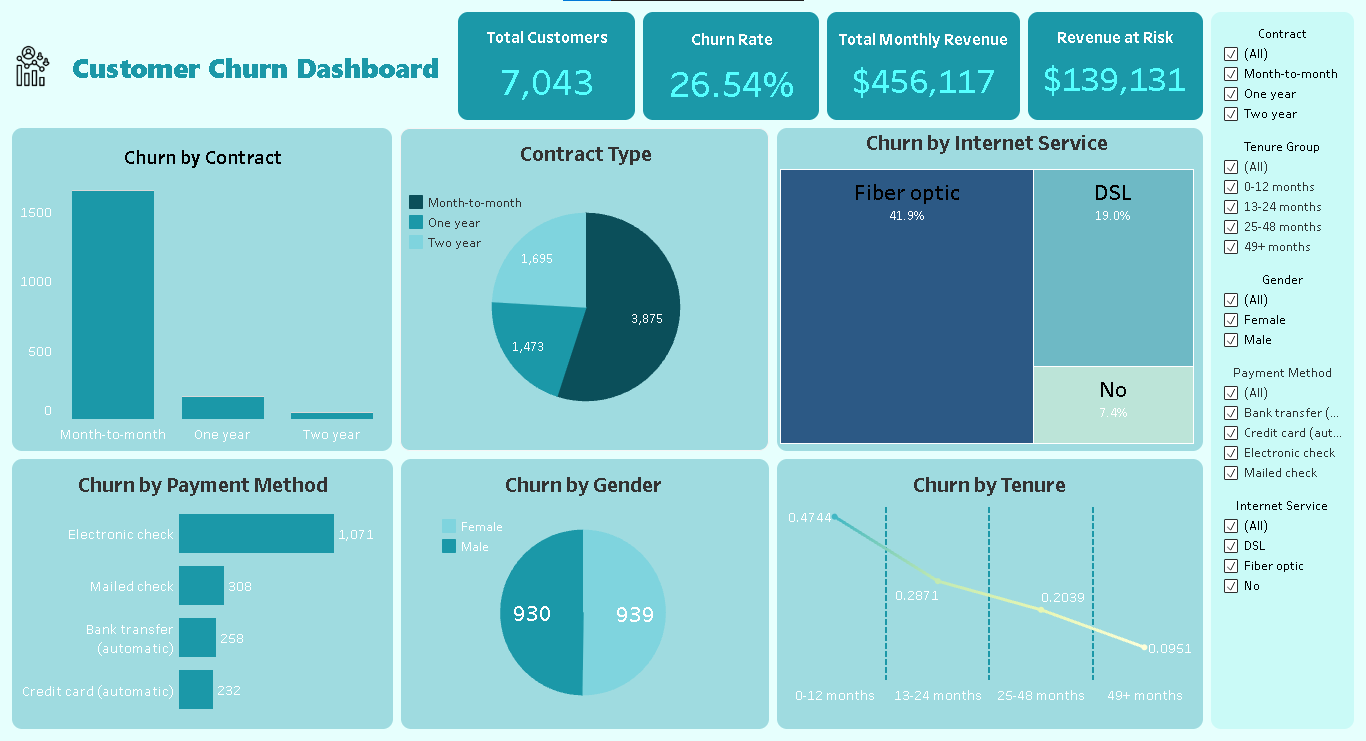

What the dashboard file says about the page in this screenshot:
{"tool":"tableau","page":{"name":"Customer Churn Dashboard","canvas":[1000,1000],"units":"permille","ordinal":0},"visuals":[{"type":"image","param":"C:/Users/Hammad/Downloads/churn-rate.png","box":[6,13.3,35.8,156.2]},{"type":"title","box":[41.7,13.3,290.9,156.2]},{"type":"blank","box":[332.6,13.3,135,156.2]},{"type":"blank","box":[467.6,13.3,135,156.2]},{"type":"blank","box":[602.6,13.3,147.1,156.2]},{"type":"blank","box":[749.6,13.3,133.6,156.2]},{"type":"blank","box":[883.3,13.3,110.7,973.4]},{"type":"worksheet","title":"Total Customers","mark":"Automatic","box":[338.8,24.9,123.1,149.5]},{"type":"worksheet","title":"Revenue at Risk","mark":"Automatic","box":[756,24.9,120.2,154.5]},{"type":"worksheet","title":"Churn Rate","mark":"Automatic","box":[473.9,26.6,123.1,151.2]},{"type":"worksheet","title":"Total Monthly Revenue","mark":"Automatic","box":[608.2,26.6,135.8,152.8]},{"type":"filter","title":"Churn by Contract","param":"[federated.0oh9uhy1ftk5yl16cav5q0f5s9dx].[none:Contract:nk]","box":[890.3,26.6,96.3,179.4]},{"type":"worksheet","title":"Churn by Internet Service","mark":"Automatic","box":[568,164.5,308.2,438.5]},{"type":"blank","box":[6,169.4,284.4,443.5]},{"type":"blank","box":[290.3,169.4,275.9,443.5]},{"type":"blank","box":[566.2,169.4,317.1,443.5]},{"type":"worksheet","title":"Contract Type","mark":"Pie","box":[300.4,179.4,257.1,412]},{"type":"worksheet","title":"Churn by Contract","mark":"Bar","rows":["Calculation_0577559022379009"],"cols":["Contract"],"box":[13.8,184.4,269.3,412]},{"type":"filter","title":"Churn by Tenure","param":"[federated.0oh9uhy1ftk5yl16cav5q0f5s9dx].[none:Calculation_0577559022198784:nk]","box":[890.3,206,96.3,211]},{"type":"legend","title":"Contract Type","param":"[federated.0oh9uhy1ftk5yl16cav5q0f5s9dx].[none:Contract:nk]","box":[297,259.1,94.4,99.7]},{"type":"filter","title":"Churn by Gender","param":"[federated.0oh9uhy1ftk5yl16cav5q0f5s9dx].[none:gender:nk]","box":[890.3,416.9,96.3,147.8]},{"type":"filter","title":"Churn by Payment Method","param":"[federated.0oh9uhy1ftk5yl16cav5q0f5s9dx].[none:PaymentMethod:nk]","box":[890.3,564.8,96.3,211]},{"type":"blank","box":[6,613,284.5,373.8]},{"type":"blank","box":[290.4,613,275.8,373.8]},{"type":"blank","box":[566.2,613,317.1,373.8]},{"type":"worksheet","title":"Churn by Payment Method","mark":"Automatic","rows":["PaymentMethod"],"cols":["Calculation_0577559022379009"],"box":[13.8,626.2,268.4,340.5]},{"type":"worksheet","title":"Churn by Gender","mark":"Pie","box":[297,626.2,259.7,342.2]},{"type":"worksheet","title":"Churn by Tenure","mark":"Line","rows":["Calculation_0577559022551042"],"cols":["Calculation_0577559022198784"],"box":[573.2,626.2,302.2,345.5]},{"type":"legend","title":"Churn by Gender","param":"[federated.0oh9uhy1ftk5yl16cav5q0f5s9dx].[none:gender:nk]","box":[321.2,696,62.3,76.4]},{"type":"filter","title":"Churn by Internet Service","param":"[federated.0oh9uhy1ftk5yl16cav5q0f5s9dx].[none:InternetService:nk]","box":[890.3,775.7,96.3,179.4]}]}

Visuals, with their boxes on the dashboard's canvas, which has no fixed pixel size, in thousandths of its width and height (x1, y1, x2, y2). These are canvas units, not pixel positions in the 1366x741 screenshot, which may show the page scaled, cropped or inside an application window:
image: {"x1": 6, "y1": 13, "x2": 42, "y2": 170}
title: {"x1": 42, "y1": 13, "x2": 333, "y2": 170}
blank: {"x1": 333, "y1": 13, "x2": 468, "y2": 170}
blank: {"x1": 468, "y1": 13, "x2": 603, "y2": 170}
blank: {"x1": 603, "y1": 13, "x2": 750, "y2": 170}
blank: {"x1": 750, "y1": 13, "x2": 883, "y2": 170}
blank: {"x1": 883, "y1": 13, "x2": 994, "y2": 987}
"Total Customers" worksheet: {"x1": 339, "y1": 25, "x2": 462, "y2": 174}
"Revenue at Risk" worksheet: {"x1": 756, "y1": 25, "x2": 876, "y2": 179}
"Churn Rate" worksheet: {"x1": 474, "y1": 27, "x2": 597, "y2": 178}
"Total Monthly Revenue" worksheet: {"x1": 608, "y1": 27, "x2": 744, "y2": 179}
"Churn by Contract" filter: {"x1": 890, "y1": 27, "x2": 987, "y2": 206}
"Churn by Internet Service" worksheet: {"x1": 568, "y1": 164, "x2": 876, "y2": 603}
blank: {"x1": 6, "y1": 169, "x2": 290, "y2": 613}
blank: {"x1": 290, "y1": 169, "x2": 566, "y2": 613}
blank: {"x1": 566, "y1": 169, "x2": 883, "y2": 613}
"Contract Type" worksheet (Pie marks): {"x1": 300, "y1": 179, "x2": 558, "y2": 591}
"Churn by Contract" worksheet (Bar marks): {"x1": 14, "y1": 184, "x2": 283, "y2": 596}
"Churn by Tenure" filter: {"x1": 890, "y1": 206, "x2": 987, "y2": 417}
"Contract Type" legend: {"x1": 297, "y1": 259, "x2": 391, "y2": 359}
"Churn by Gender" filter: {"x1": 890, "y1": 417, "x2": 987, "y2": 565}
"Churn by Payment Method" filter: {"x1": 890, "y1": 565, "x2": 987, "y2": 776}
blank: {"x1": 6, "y1": 613, "x2": 290, "y2": 987}
blank: {"x1": 290, "y1": 613, "x2": 566, "y2": 987}
blank: {"x1": 566, "y1": 613, "x2": 883, "y2": 987}
"Churn by Payment Method" worksheet: {"x1": 14, "y1": 626, "x2": 282, "y2": 967}
"Churn by Gender" worksheet (Pie marks): {"x1": 297, "y1": 626, "x2": 557, "y2": 968}
"Churn by Tenure" worksheet (Line marks): {"x1": 573, "y1": 626, "x2": 875, "y2": 972}
"Churn by Gender" legend: {"x1": 321, "y1": 696, "x2": 384, "y2": 772}
"Churn by Internet Service" filter: {"x1": 890, "y1": 776, "x2": 987, "y2": 955}
